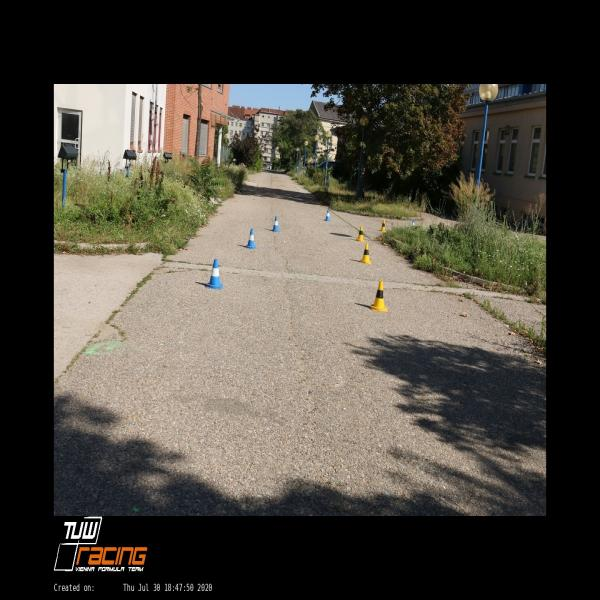blue_cone: (205, 258, 223, 290), (244, 228, 258, 250), (271, 217, 280, 232), (324, 209, 330, 221), (412, 219, 414, 226)
yellow_cone: (369, 280, 389, 312), (360, 243, 371, 265), (356, 225, 366, 242), (380, 219, 386, 233)
